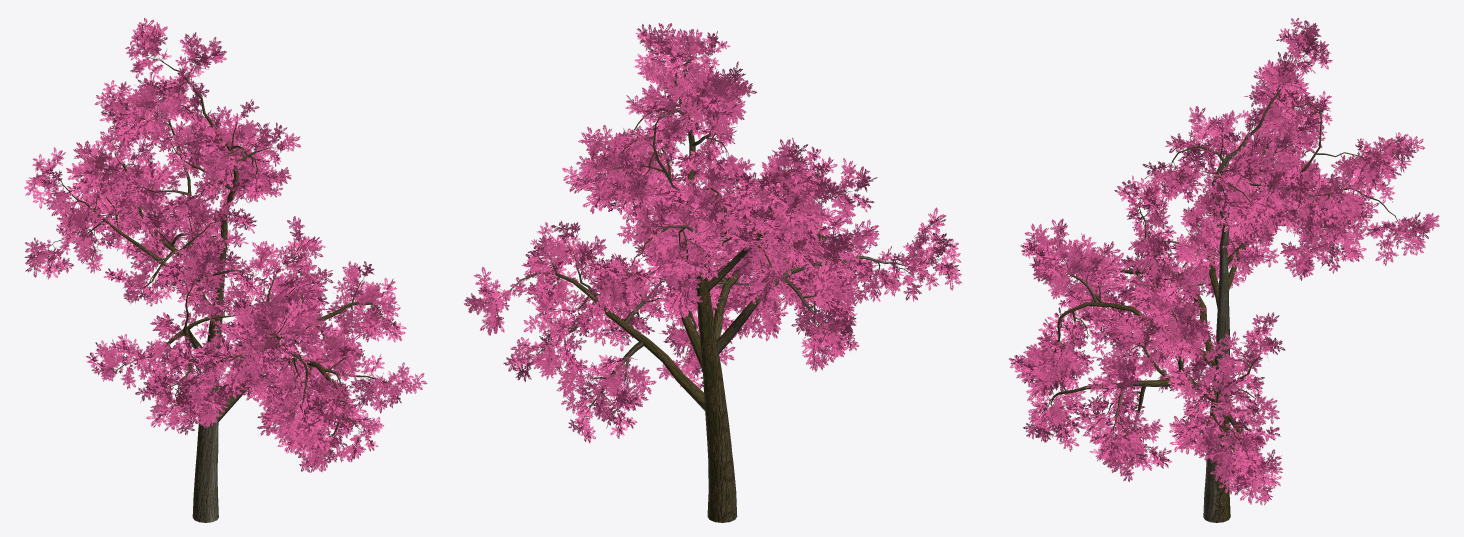
File: flower-a.glb
3 views of the same model, side by side, from view 1: azimuth 30°, elevation 25°; view 2: azimuth 150°, elevation 25°; view 3: azimuth 270°, elevation 25° (orthographic). The views are drawn at different scales.
Parts seen in each view (by area): view 1: leaves, bark; view 2: leaves, bark; view 3: leaves, bark.
Part boxes in pixels (bbox=[...]): leaves: bbox=[24, 18, 427, 472]; bark: bbox=[42, 56, 394, 522]; leaves: bbox=[464, 23, 961, 443]; bark: bbox=[491, 54, 941, 522]; leaves: bbox=[1009, 18, 1439, 505]; bark: bbox=[1040, 52, 1408, 522].
Bounding box in the file's own units: 0.7996 × 1 × 0.8251.
Materials: 2 (2 with a texture image).
